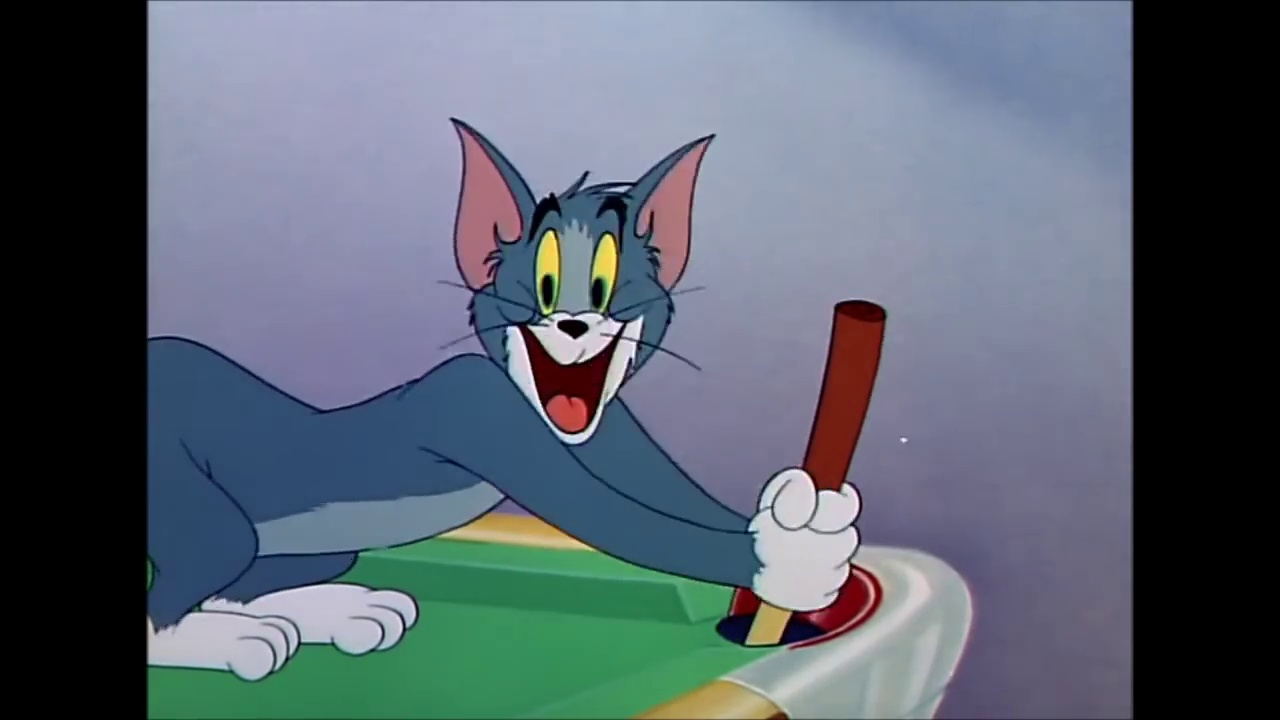happy: (516, 191, 627, 443)
